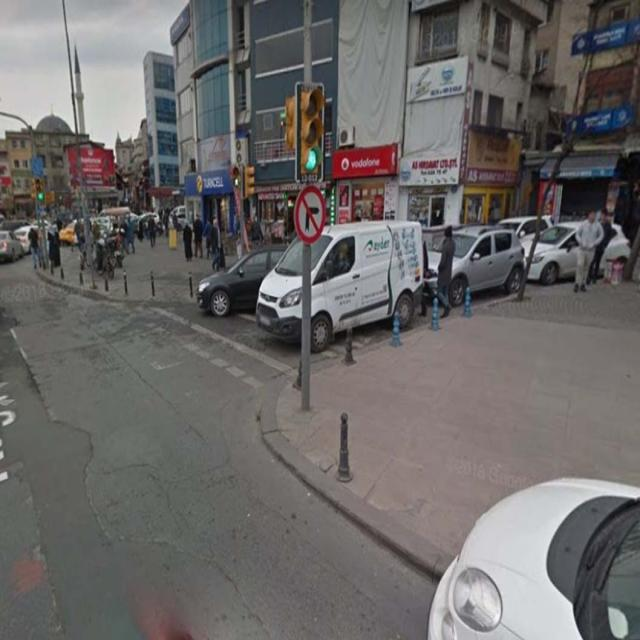sagadonulmez: (292, 186, 326, 244)
yesil: (295, 82, 324, 182), (34, 177, 45, 202)
